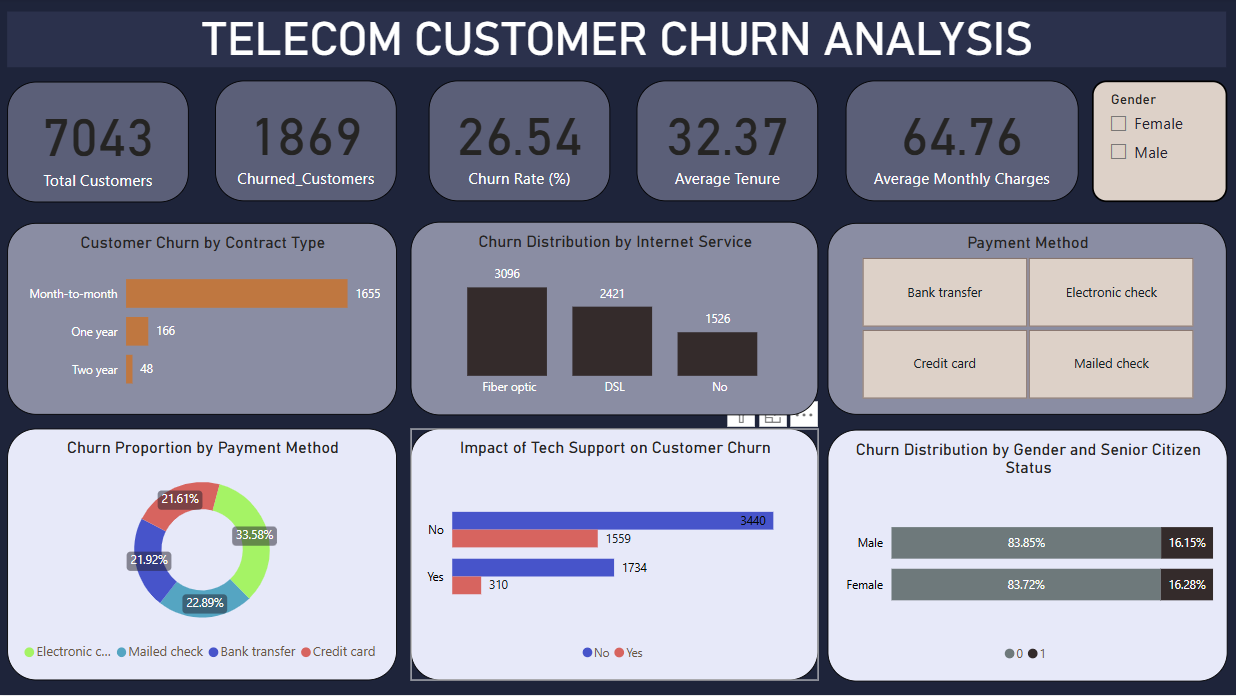

This screenshot's page, from the dashboard's own definition file:
{"tool":"powerbi","page":{"name":"Page 1","canvas":[1280,720],"ordinal":0},"visuals":[{"type":"card","fields":{"Values":["Table1.Churned_Customers"]},"box":[225.3,85.2,187.9,124.9],"z":0},{"type":"shape","title":"TELECOM CUSTOMER CHURN ANALYSIS","box":[10.5,14,1259.6,57.2],"z":1000},{"type":"card","fields":{"Values":["Table1.Churn Rate (%)"]},"box":[445.9,85.2,187.9,124.9],"z":2000},{"type":"card","fields":{"Values":["Table1.Total Customers"]},"box":[10.5,86.4,187.9,124.9],"z":3000},{"type":"card","fields":{"Values":["Table1.Average Tenure"]},"box":[660.7,85.2,187.9,124.9],"z":4000},{"type":"card","fields":{"Values":["Table1.Average Monthly Charges"]},"box":[876.7,85.2,240.5,124.9],"z":5000},{"type":"barChart","title":"Customer Churn by Contract Type","fields":{"Category":["Table1.Contract"],"Y":["Table1.Churned_Customers"]},"box":[10.5,232.3,402.7,198.5],"z":6000},{"type":"donutChart","title":"Churn Proportion by Payment Method","fields":{"Category":["Table1.PaymentMethod"],"Y":["CountNonNull(Table1.Churn)"]},"box":[10.5,444.8,402.7,260.3],"z":7000},{"type":"clusteredBarChart","title":"Impact of Tech Support on Customer Churn","fields":{"Category":["Table1.TechSupport"],"Y":["CountNonNull(Table1.customerID)"],"Series":["Table1.Churn"]},"box":[427.3,444.8,421.4,260.3],"z":8000},{"type":"columnChart","title":"Churn Distribution by Internet Service","fields":{"Category":["Table1.InternetService"],"Y":["CountNonNull(Table1.customerID)"]},"box":[427.3,231.1,421.4,199.6],"z":9000},{"type":"slicer","title":"Payment Method","fields":{"Values":["Table1.PaymentMethod"]},"box":[858,232.3,412.1,198.5],"z":10000},{"type":"hundredPercentStackedBarChart","title":"Churn Distribution by Gender and Senior Citizen Status","fields":{"Series":["Table1.SeniorCitizen"],"Category":["Table1.Gender"],"Y":["CountNonNull(Table1.customerID)"]},"box":[858,445.9,413.2,260.3],"z":11000},{"type":"slicer","fields":{"Values":["Table1.Gender"]},"box":[1131.2,85.2,140.1,126.1],"z":12000}]}

Visuals, with their boxes in screenshot pixels (x1, y1, x2, y2), scaled from the page's 1280x720 canvas onto the 1236x696 screenshot:
card - Table1.Churned_Customers: locate(218, 82, 399, 203)
"TELECOM CUSTOMER CHURN ANALYSIS" shape: locate(10, 14, 1226, 69)
card - Table1.Churn Rate (%): locate(431, 82, 612, 203)
card - Table1.Total Customers: locate(10, 84, 192, 204)
card - Table1.Average Tenure: locate(638, 82, 819, 203)
card - Table1.Average Monthly Charges: locate(847, 82, 1079, 203)
"Customer Churn by Contract Type" barChart: locate(10, 225, 399, 416)
"Churn Proportion by Payment Method" donutChart: locate(10, 430, 399, 682)
"Impact of Tech Support on Customer Churn" clusteredBarChart: locate(413, 430, 820, 682)
"Churn Distribution by Internet Service" columnChart: locate(413, 223, 820, 416)
"Payment Method" slicer: locate(829, 225, 1226, 416)
"Churn Distribution by Gender and Senior Citizen Status" hundredPercentStackedBarChart: locate(829, 431, 1228, 683)
slicer - Table1.Gender: locate(1092, 82, 1228, 204)
